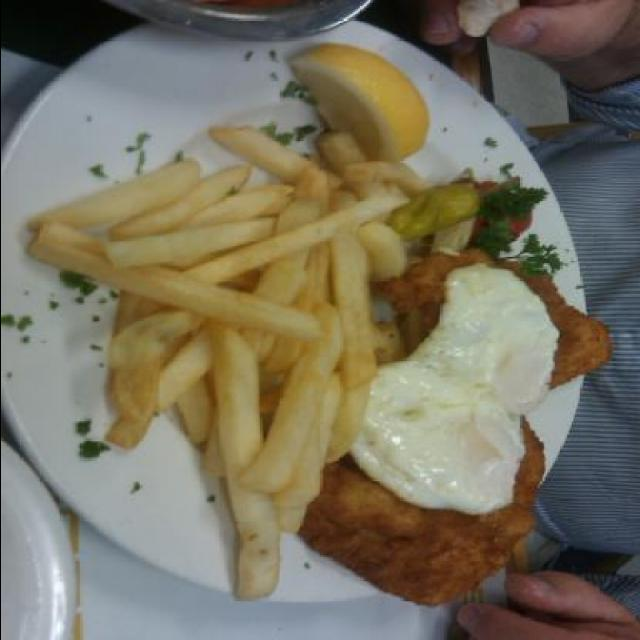French fries: (21, 123, 488, 603)
